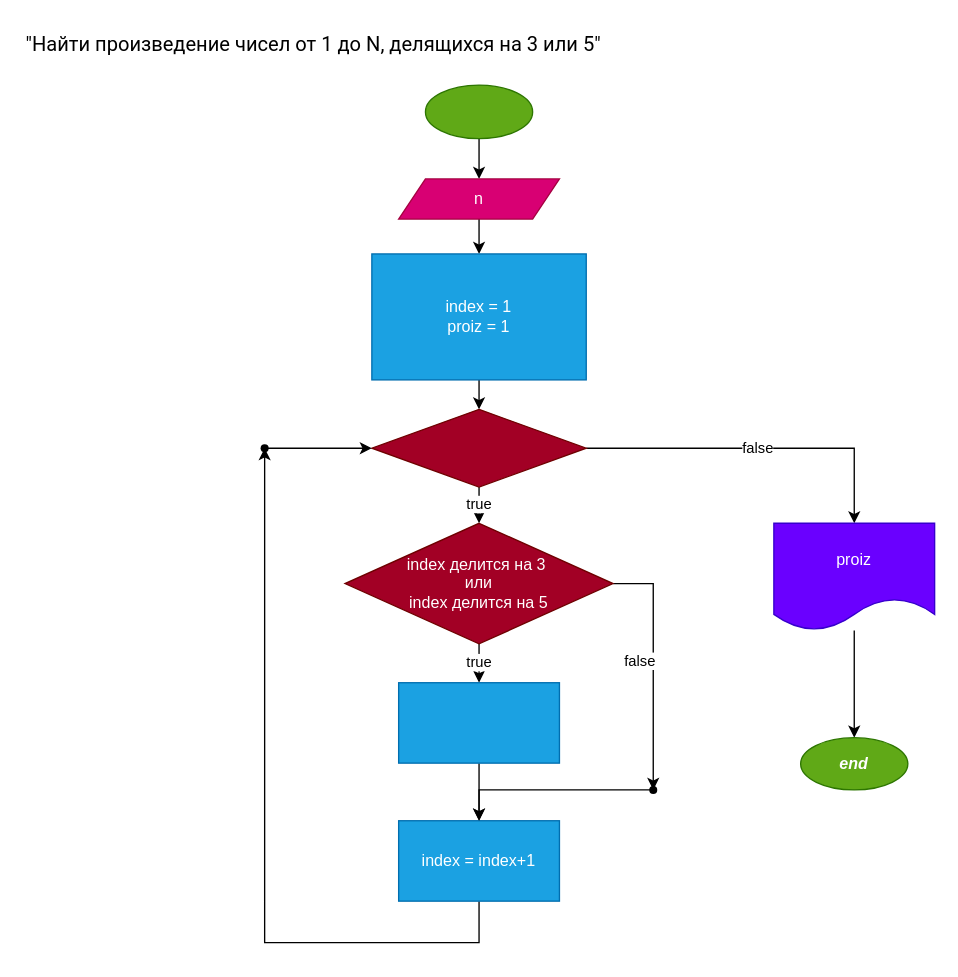
This 958x977 diagram has some shape labels left out. Each missing label, with the centre of its shape:
"index <= n" belongs at pixel 478 447.
"proiz = proiz * index" belongs at pixel 478 722.
"start" belongs at pixel 478 111.
